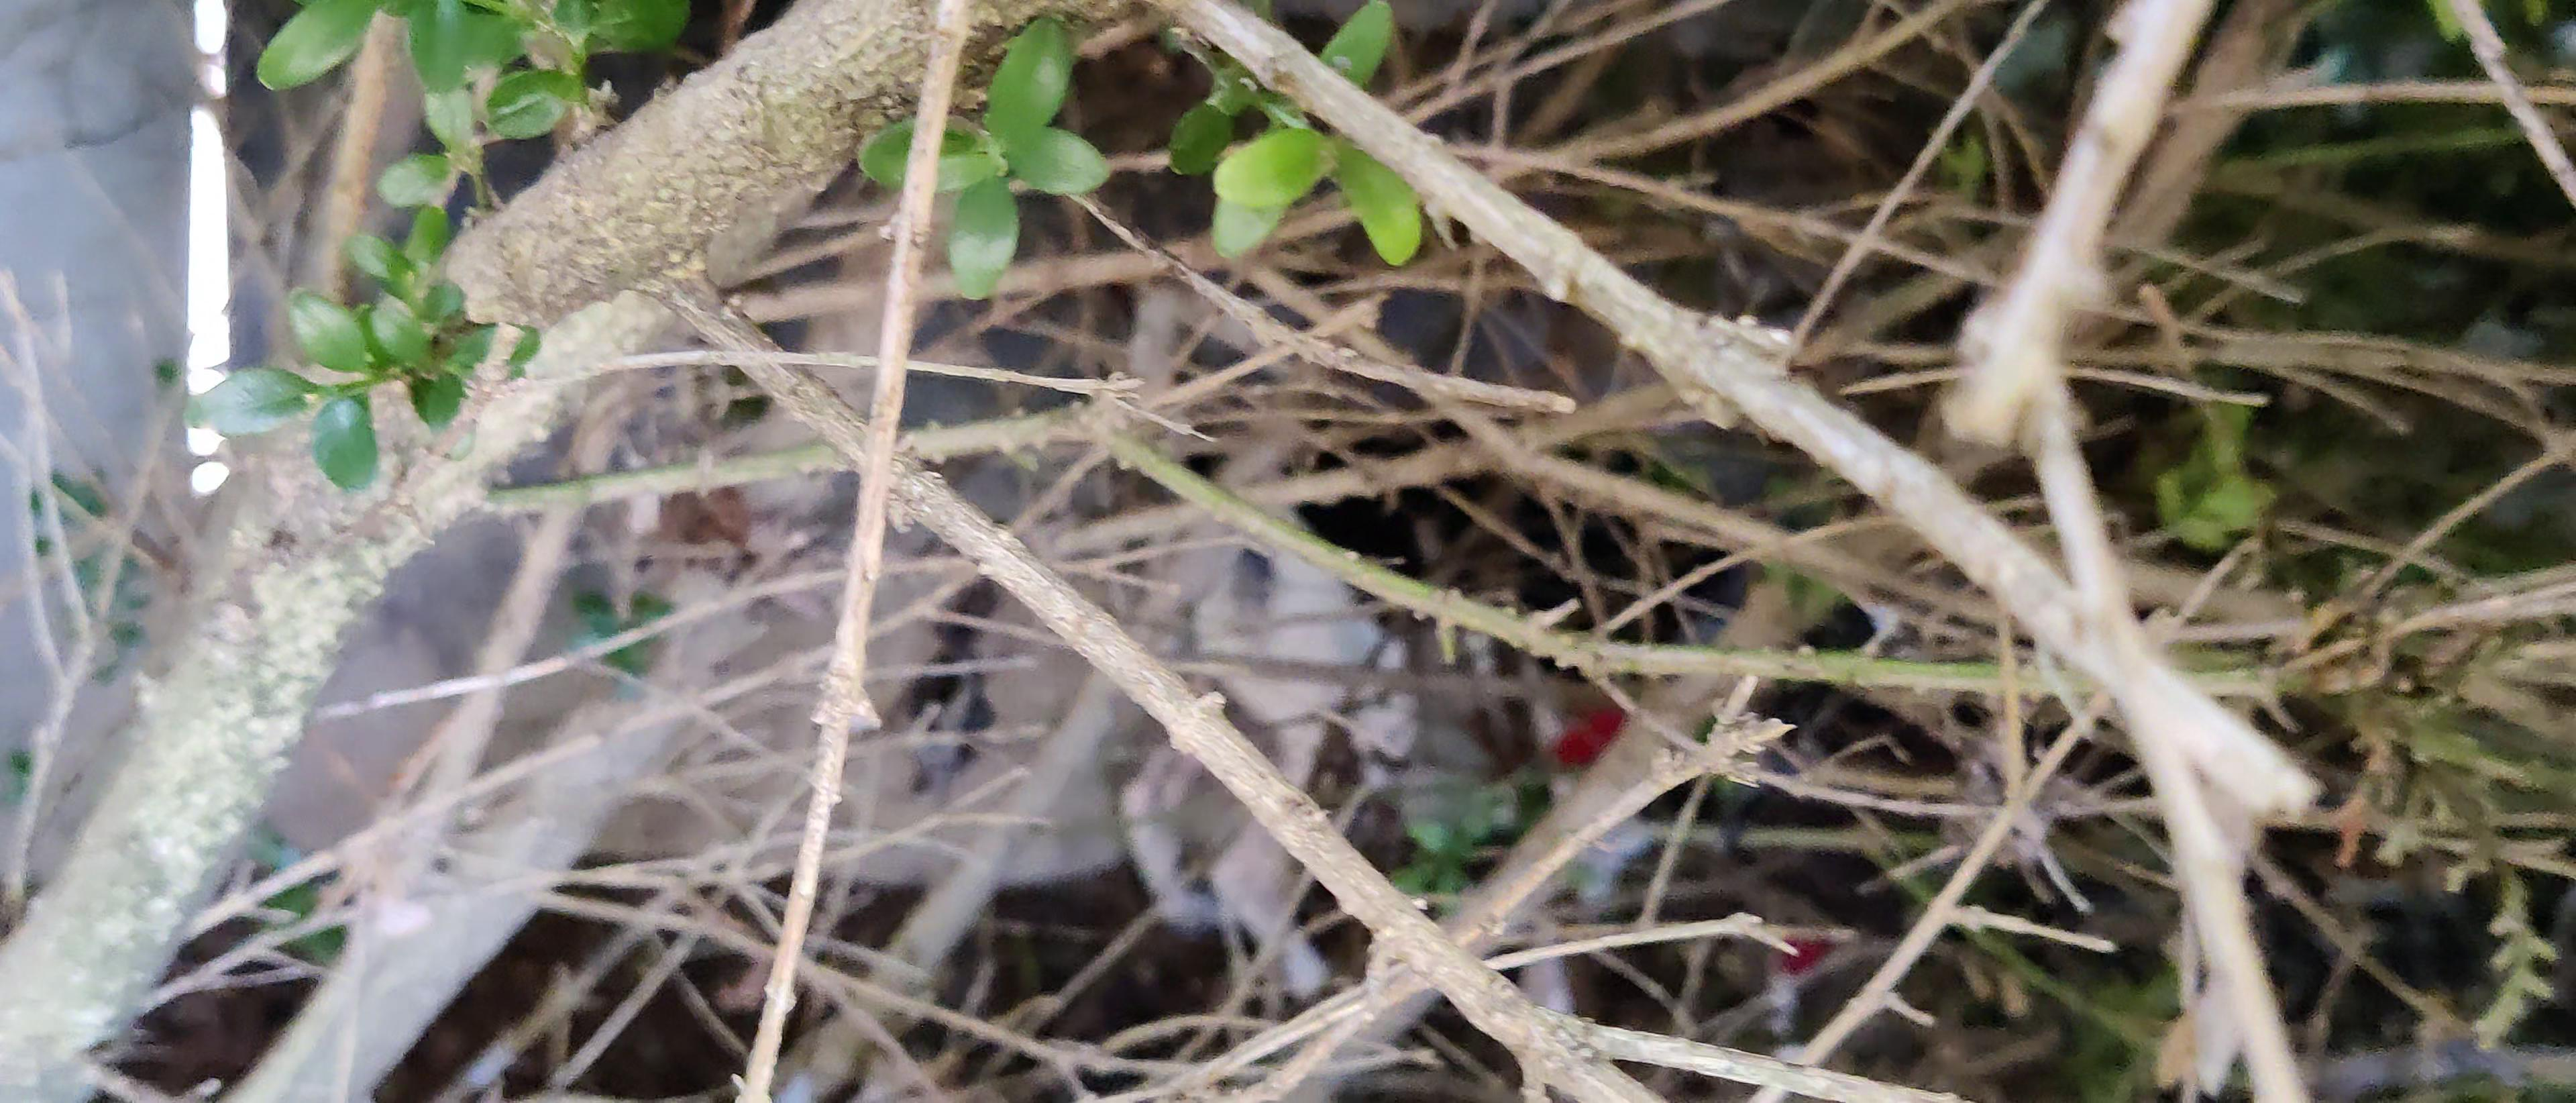Dog: (1089, 426, 1745, 1003)
